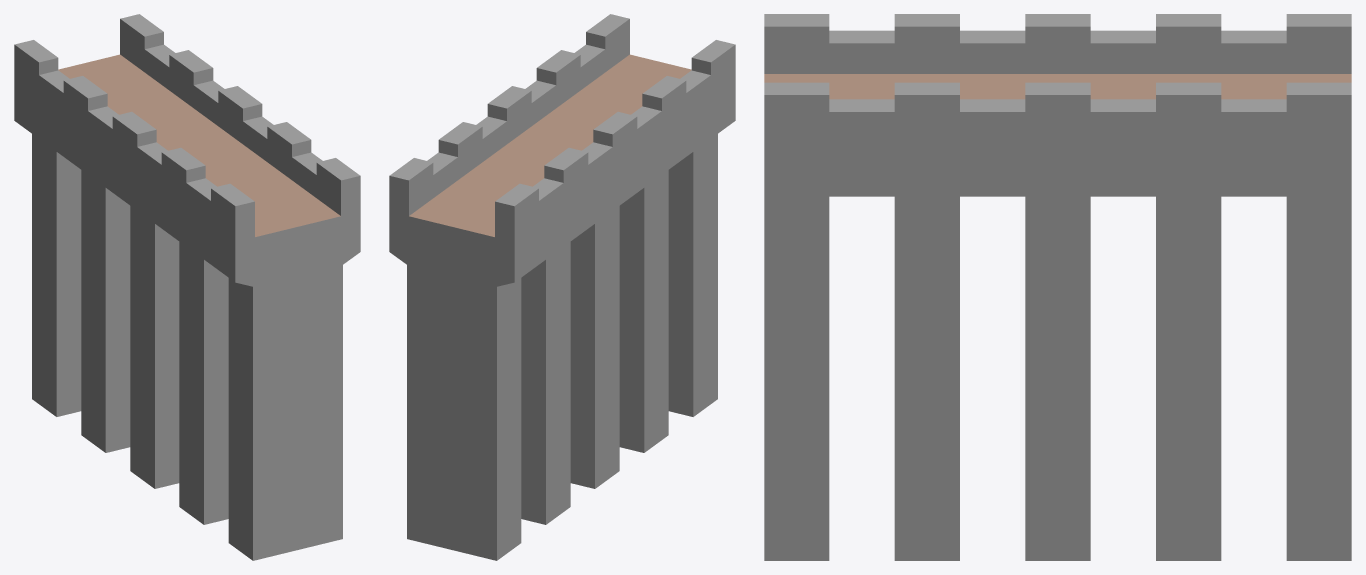
Rendered from Bridge02.fbx.
The picture shows the model from 3 angles, left to right: view 1: azimuth 30°, elevation 25°; view 2: azimuth 150°, elevation 25°; view 3: azimuth 270°, elevation 25°; orthographic projection. The views are drawn at different scales.
Visible parts, largest first — view 1: Bridge_Big2; view 2: Bridge_Big2; view 3: Bridge_Big2.
Part boxes in pixels (left/top/right/bottom): Bridge_Big2: left=14, top=14, right=360, bottom=560; Bridge_Big2: left=389, top=14, right=735, bottom=560; Bridge_Big2: left=764, top=14, right=1351, bottom=560.
Size of the model in its own units: 0.566 by 1.55 by 1.73.
